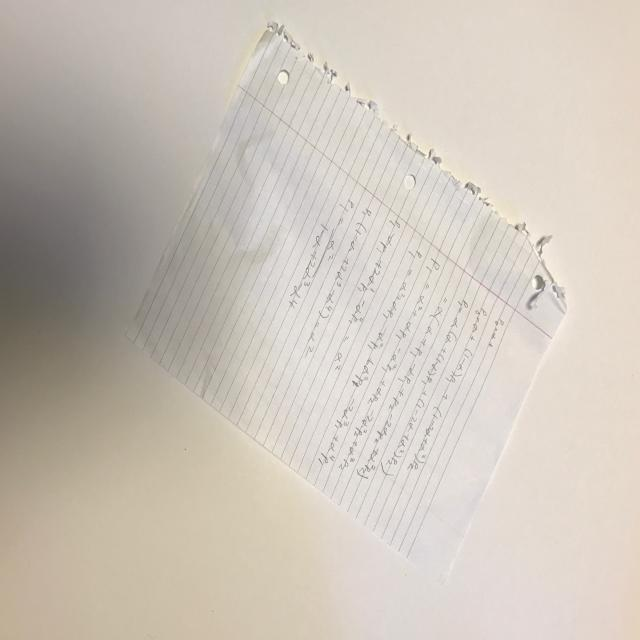paper: (124, 22, 566, 568)
